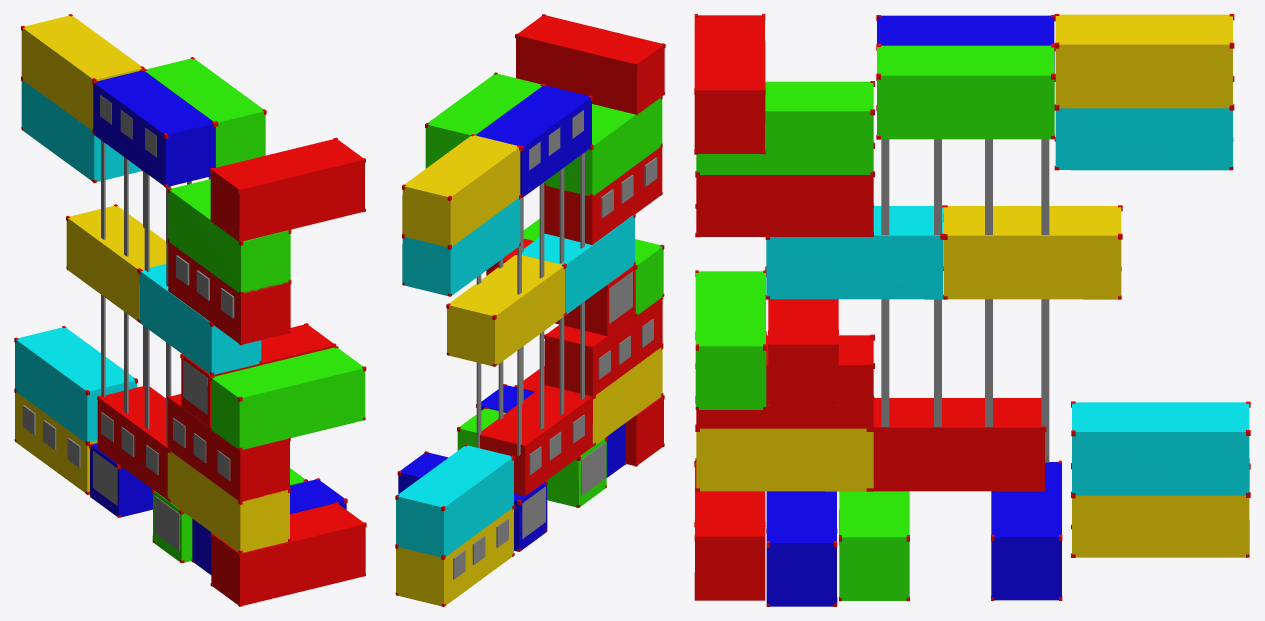
Rendered from ParentPart16FBX.FBX.
3 renders of one model, left to right at view 1: azimuth 30°, elevation 25°; view 2: azimuth 150°, elevation 25°; view 3: azimuth 270°, elevation 25°, orthographic. The views are drawn at different scales.
Visible parts, largest first — view 1: ParentPart16; view 2: ParentPart16; view 3: ParentPart16.
Boxes of the visible parts, left/top/right/bottom form: ParentPart16: left=14, top=14, right=366, bottom=606; ParentPart16: left=395, top=14, right=665, bottom=606; ParentPart16: left=694, top=14, right=1250, bottom=606.
Size of the model in its own units: 2.26 by 6.43 by 6.55.
